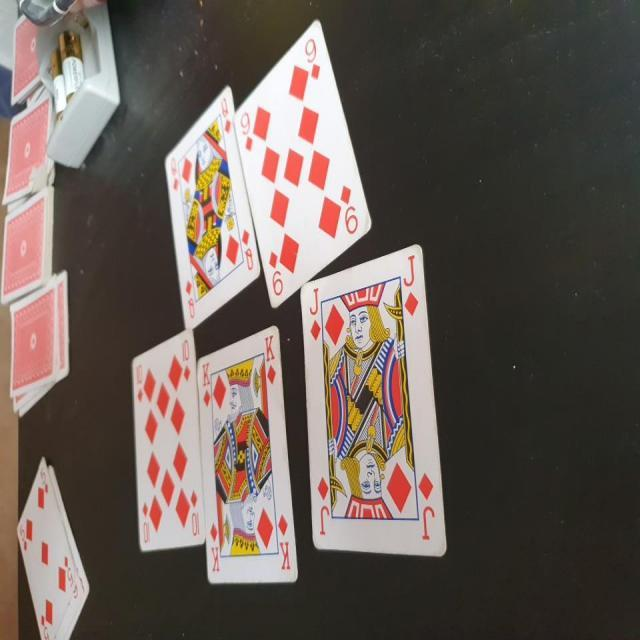10 of diamonds: (132, 326, 210, 554)
5 of diamonds: (13, 452, 86, 640)
9 of diamonds: (232, 18, 374, 310)
jack of diamonds: (296, 242, 450, 557)
king of diamonds: (196, 325, 300, 585)
queen of diamonds: (162, 82, 262, 326)
